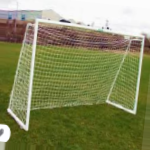goals: (6, 16, 146, 133)
